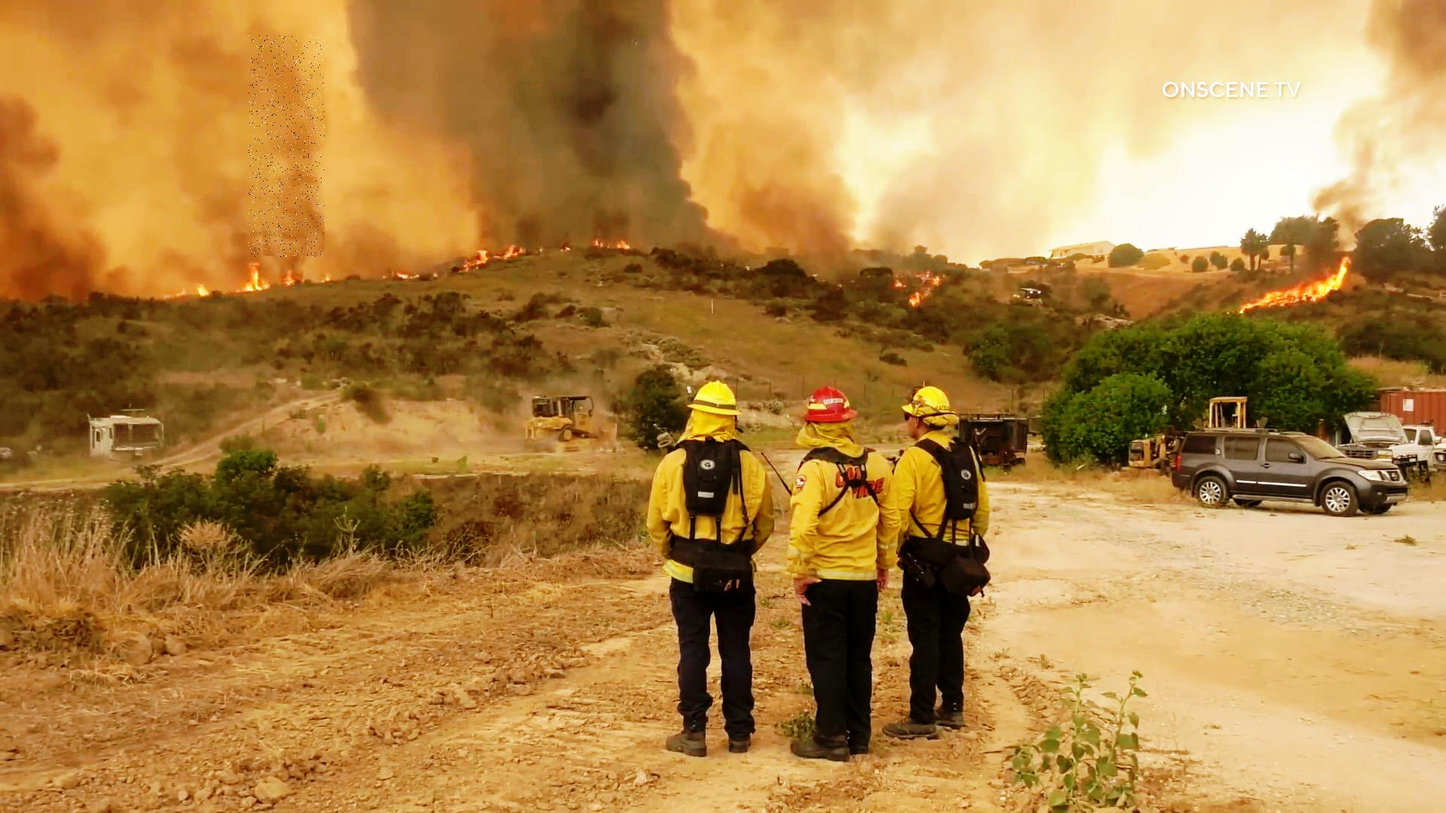smoke: (249, 36, 325, 258)
